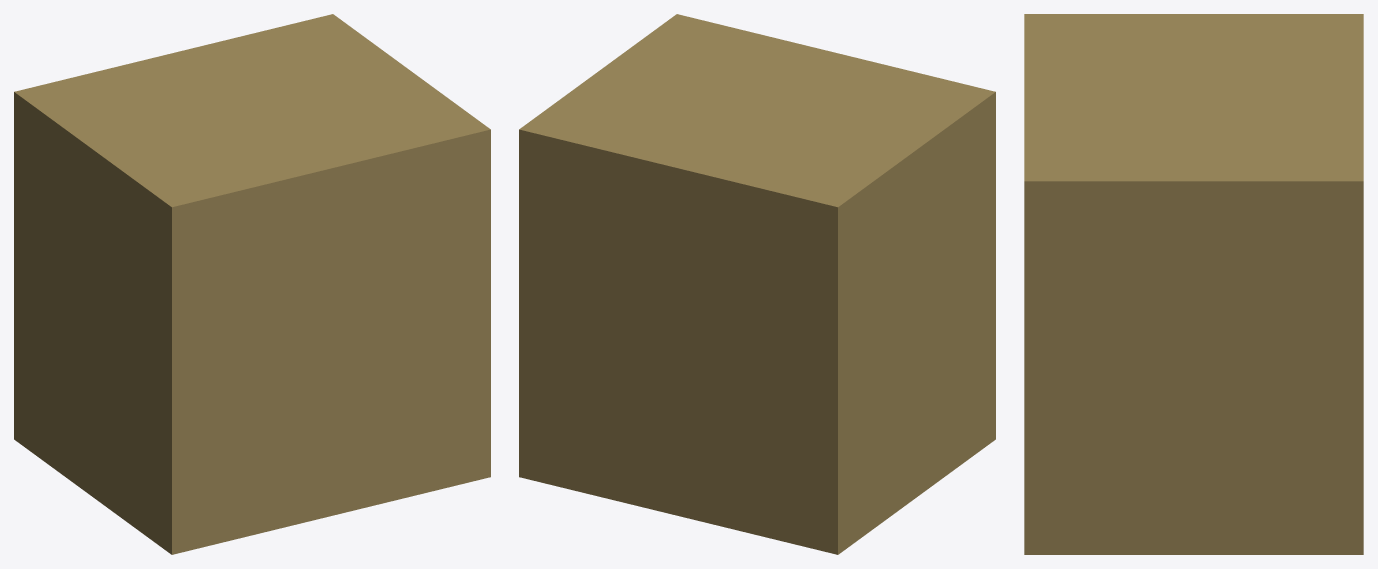
File: nature_reed_b_lod2.glb
3 renders of one model, left to right at view 1: azimuth 30°, elevation 25°; view 2: azimuth 150°, elevation 25°; view 3: azimuth 270°, elevation 25°, orthographic. The views are drawn at different scales.
Parts seen in each view (by area): view 1: nature_reed_b_lod2; view 2: nature_reed_b_lod2; view 3: nature_reed_b_lod2.
Boxes of the visible parts, x1,y1,x2,y2 form: nature_reed_b_lod2: [14, 14, 490, 554]; nature_reed_b_lod2: [519, 14, 995, 554]; nature_reed_b_lod2: [1024, 14, 1363, 554].
Bounding box in the file's own units: 3.14 × 3.27 × 2.69.
